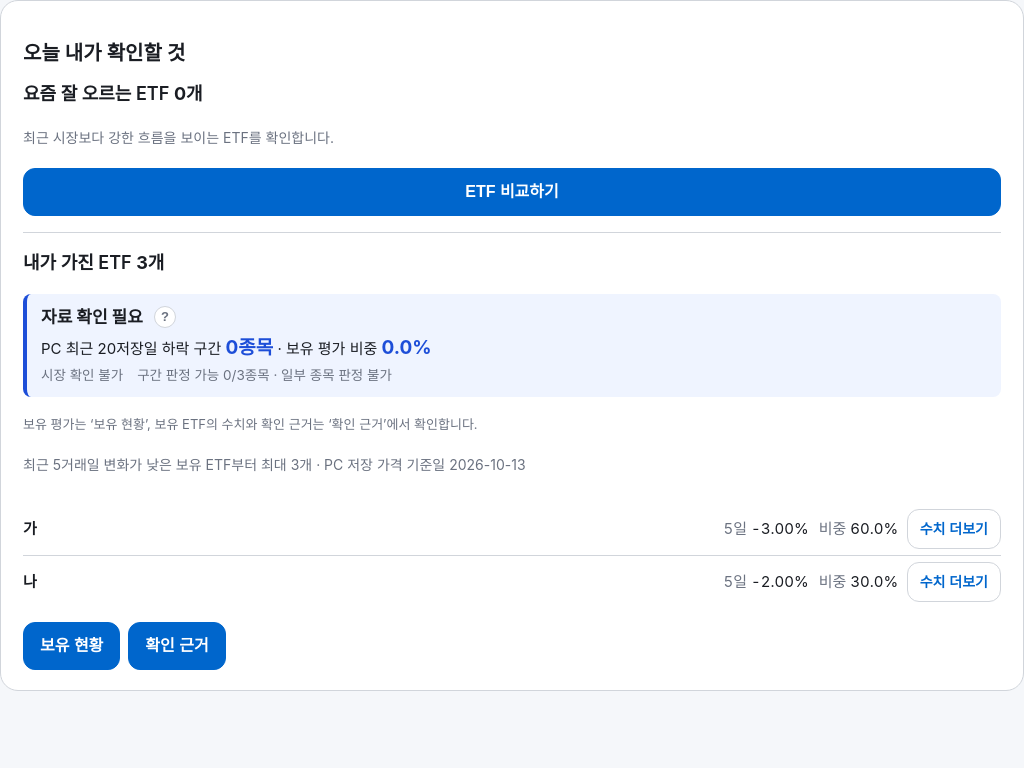
최대 3개 — 이름 · 5일 · 비중 + 종목별 '수치 더보기' (설계 §2 · 판정 Q3) › 기본은 5일 · 비중만 · 종목마다 따로 펼친다 · 값은 그대로
The width and height of the screenshot is (1024, 768).
Expected: the list item with test id "tc-top-row" shows "5일 -3.00%", [23,503,1001,556]
Expected: the list item with test id "tc-top-row" shows "비중 60.0%", [23,503,1001,556]
Click the button with aria-label "가 수치 더보기".
click(954, 529)  # box [907,509,1001,549]
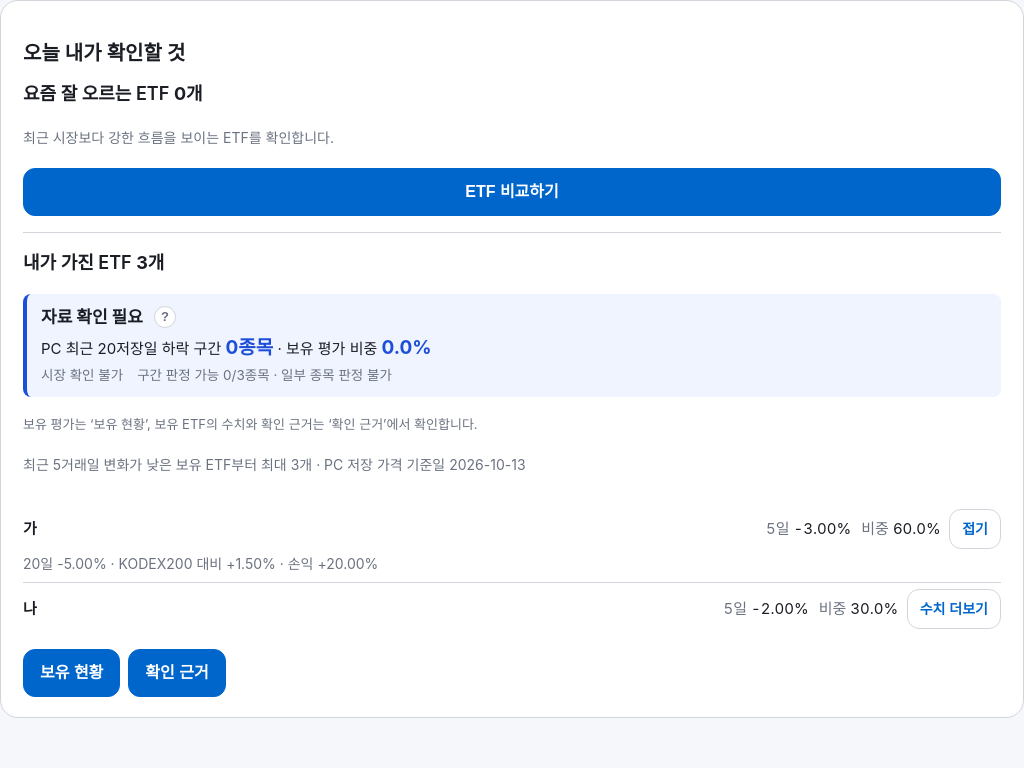
Expected: the element with test id "tc-top-row" does not show "20일"
Result: the list item with test id "tc-top-row" shows "20일 -5.00% · KODEX200 대비 +1.50% · 손익 +20.00%" at [23,503,1001,583]
Click the button with aria-label "가 접기".
click(975, 529)  # box [949,509,1001,549]
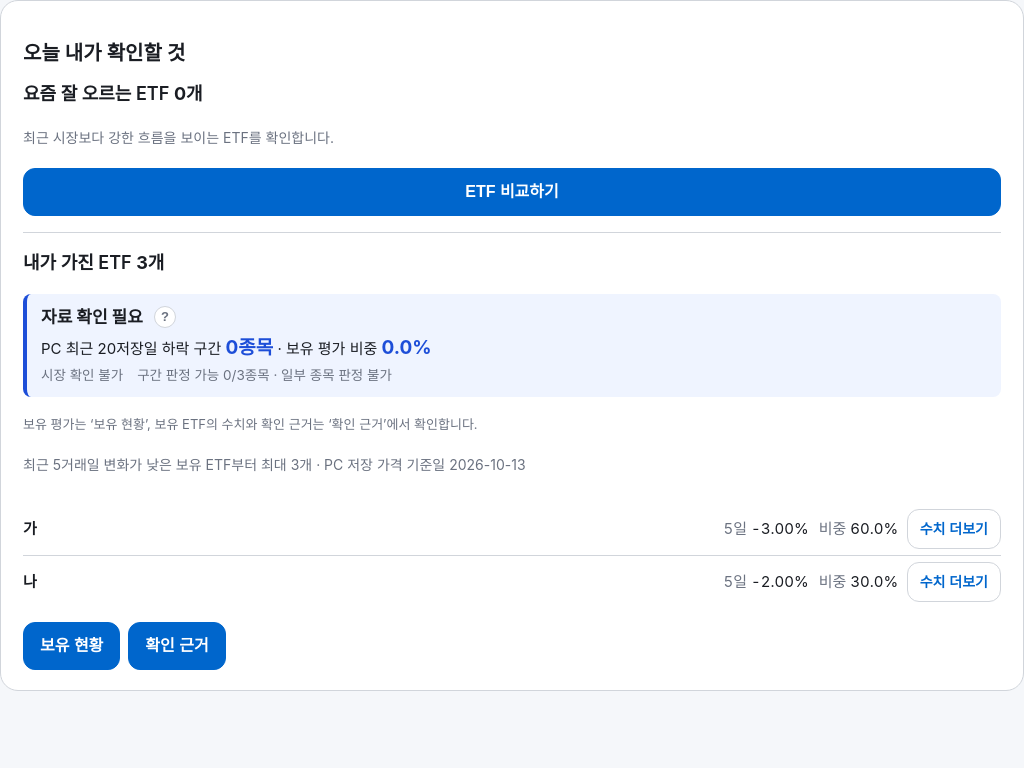
Result: the text with test id "tc-top-row" no longer shows "20일"
